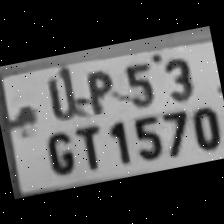0: (182, 97, 224, 152)
1: (98, 113, 133, 169)
3: (154, 50, 198, 103)
5: (114, 54, 160, 108), (124, 108, 164, 162)
7: (155, 102, 192, 158)
G: (37, 122, 80, 180)
P: (76, 60, 120, 116)
T: (69, 117, 109, 173)
U: (38, 63, 83, 122)
